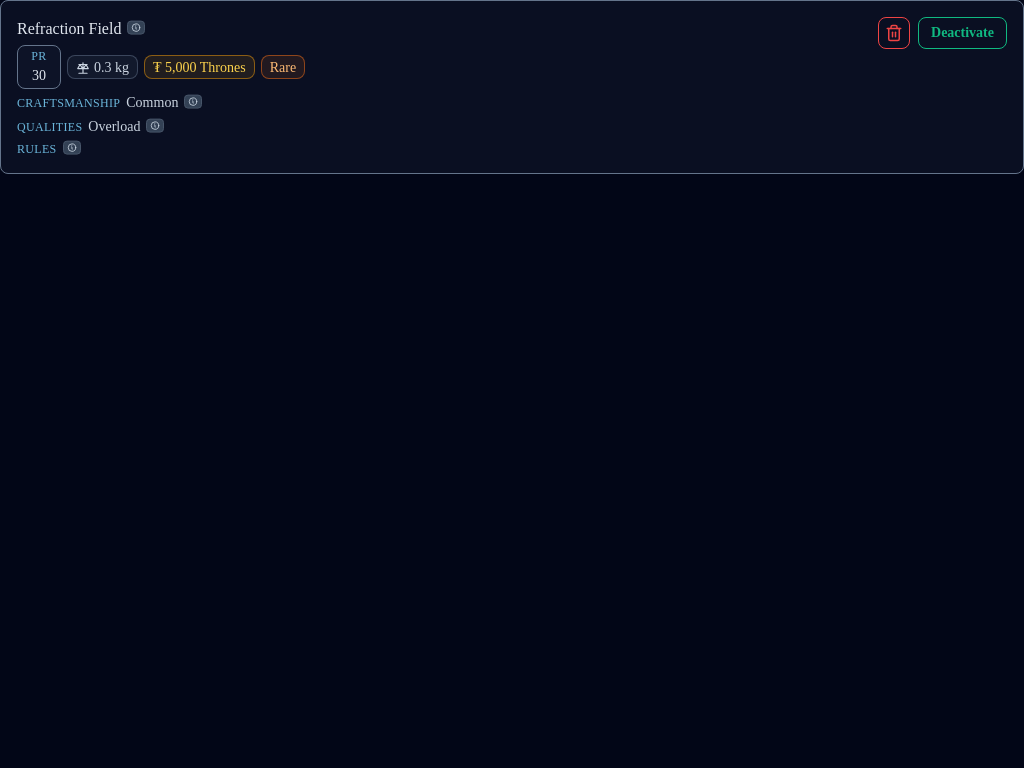
ForceFieldRow shared layout › names the Remove pop-up after a Force Field
The image size is (1024, 768).
Click the button named "Remove Refraction Field": (894, 33) [878, 17, 910, 49]
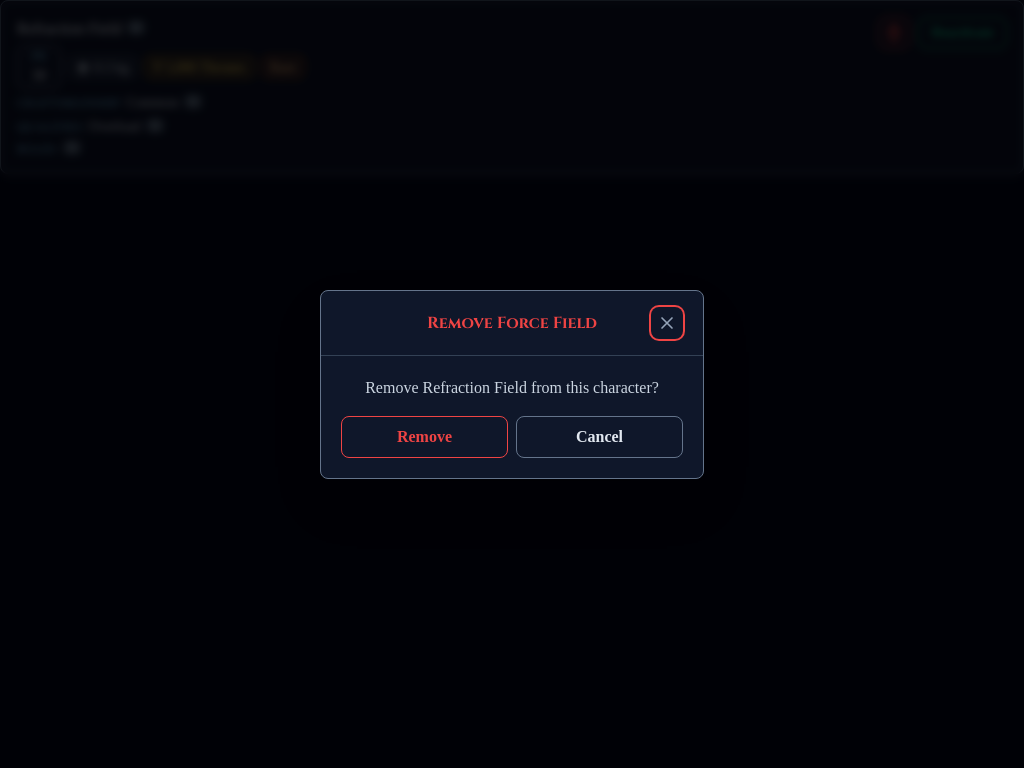
Expected: the dialog "Remove Force Field" is shown, [320, 290, 704, 478]
